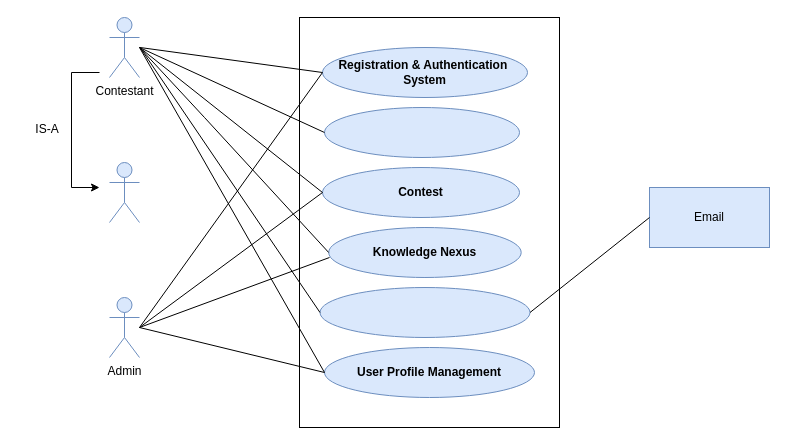
The diagram is 787 pixels wide and 445 high, and some of its shapes have lost their labels. Each missing label, with the centre of its shape:
Notification System: [424,312]
Problem Repository: [422,132]
Problem-Setter: [124,192]
